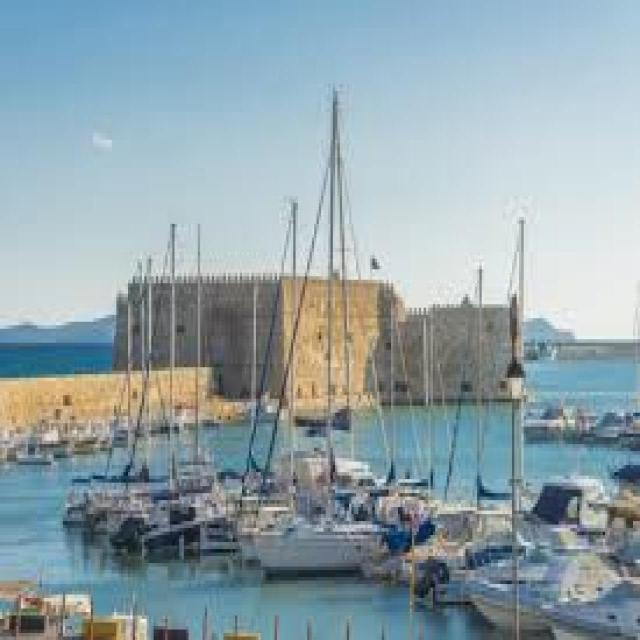Kules: (108, 272, 529, 404)
